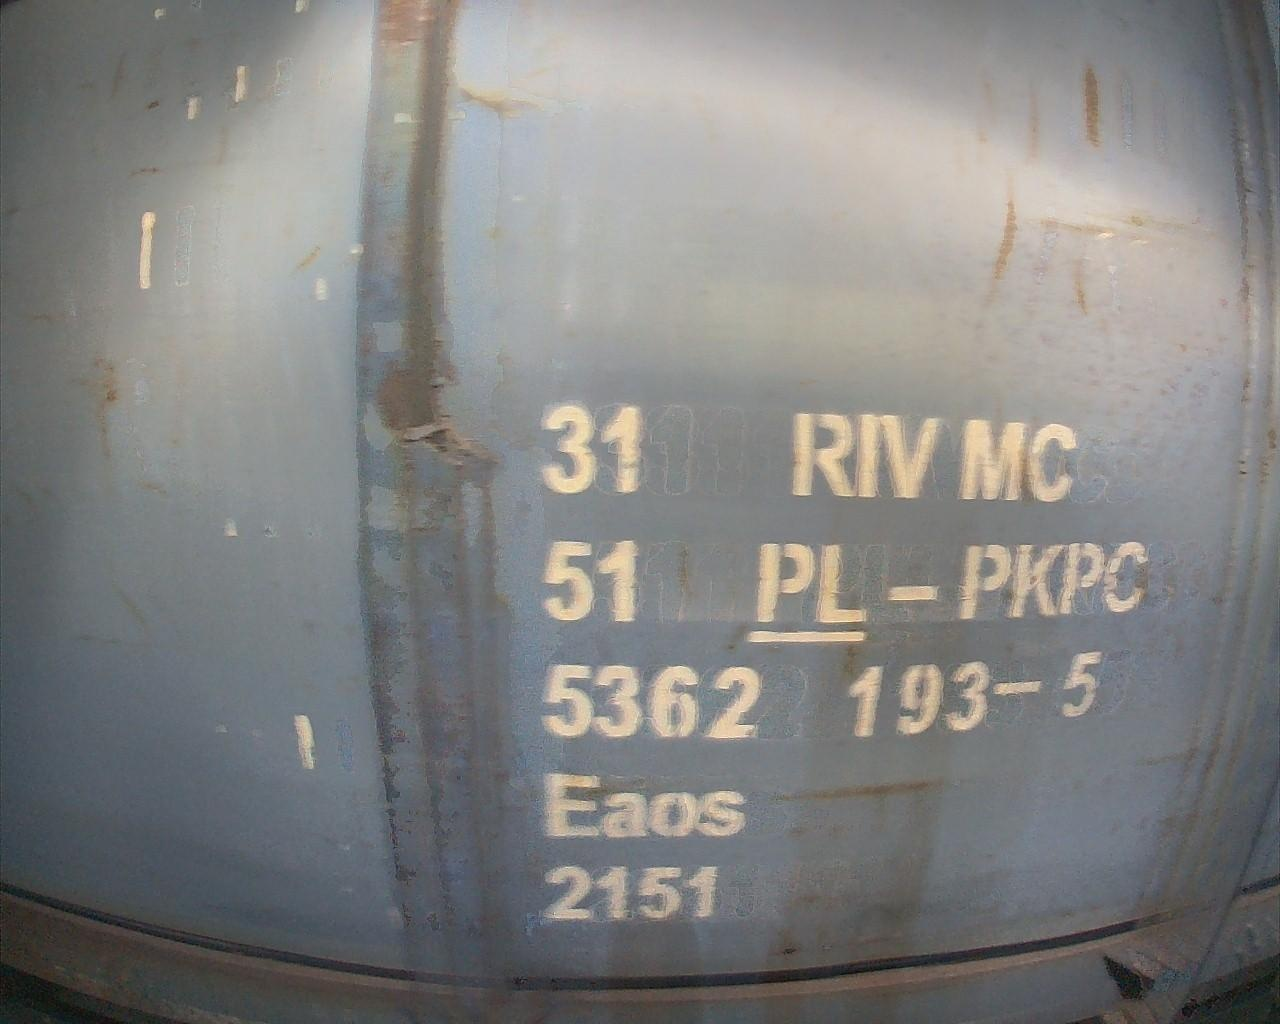UIC: (521, 395, 1156, 930)
